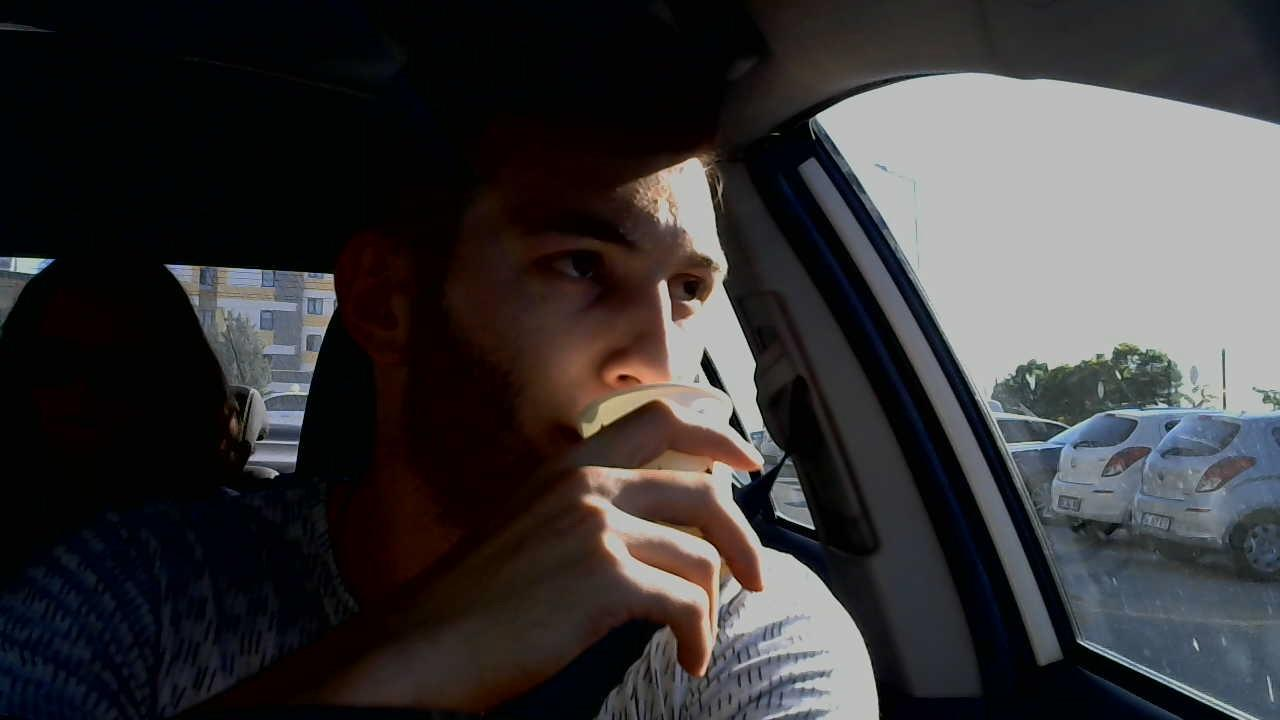Drinking: (342, 130, 761, 678)
